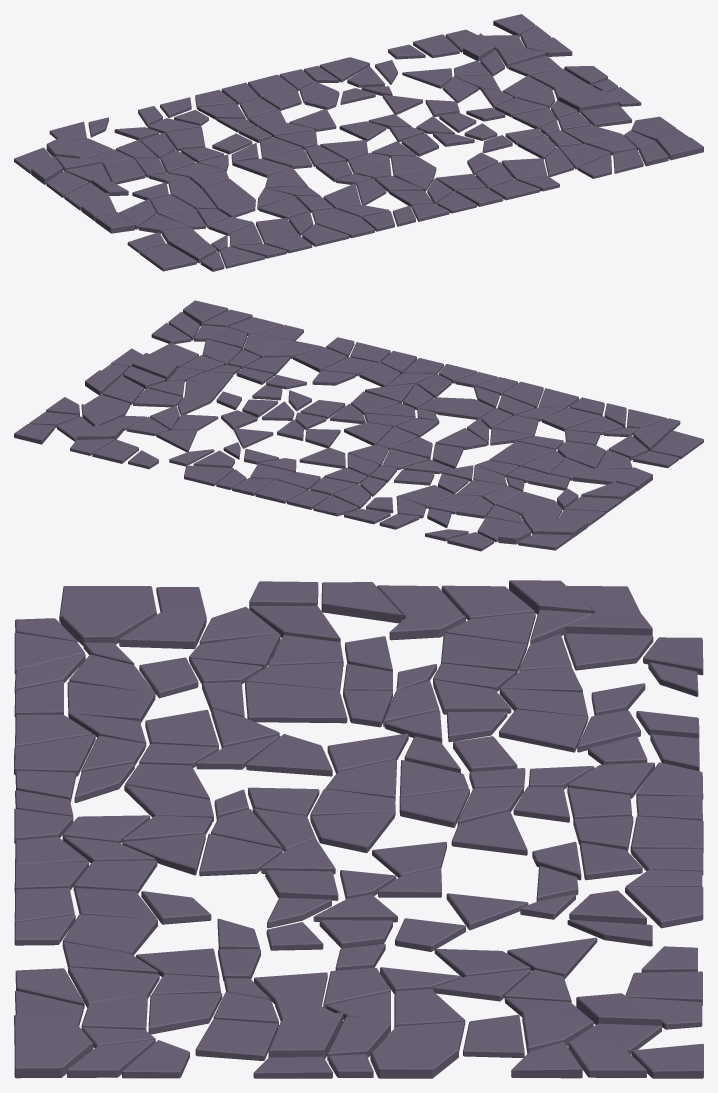
The model's file is Floor1_Stone.fbx.
3 renders of one model, top to bottom at view 1: azimuth 30°, elevation 25°; view 2: azimuth 150°, elevation 25°; view 3: azimuth 270°, elevation 25°, orthographic. The views are drawn at different scales.
Parts seen in each view (by area): view 1: Slab0_0_1.001; view 2: Slab0_0_1.001; view 3: Slab0_0_1.001.
Part boxes in pixels (<box>): Slab0_0_1.001: <box>14,14,703,271</box>; Slab0_0_1.001: <box>14,300,703,551</box>; Slab0_0_1.001: <box>14,580,703,1078</box>.
Size of the model in its own units: 14973 by 189 by 8968.
